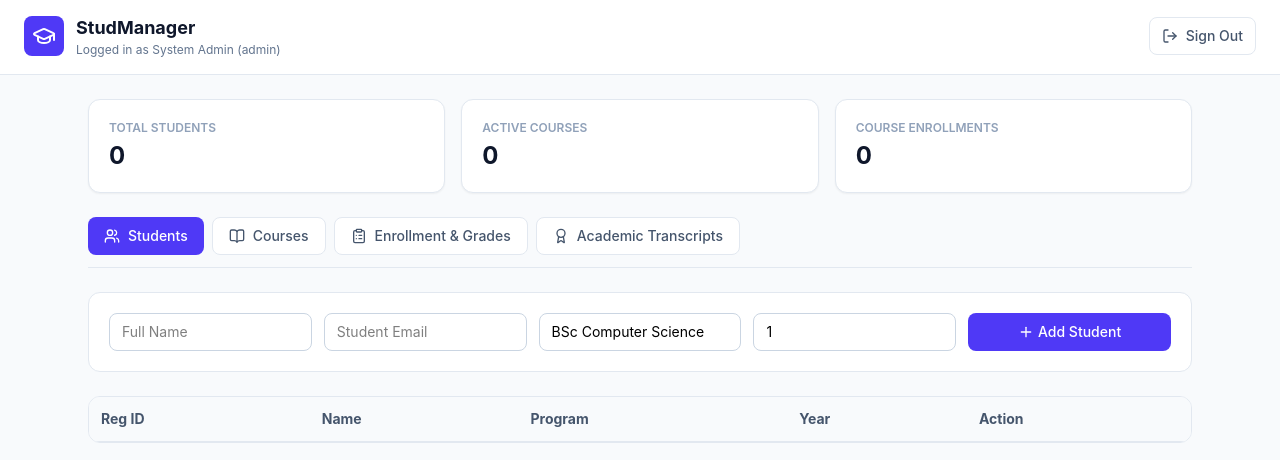
Scenario: Dashboard Page › switches to Academic Transcripts tab when clicked
Step 1. Click the button "Academic Transcripts" → click(638, 236), box x1=536 y1=217 x2=740 y2=255
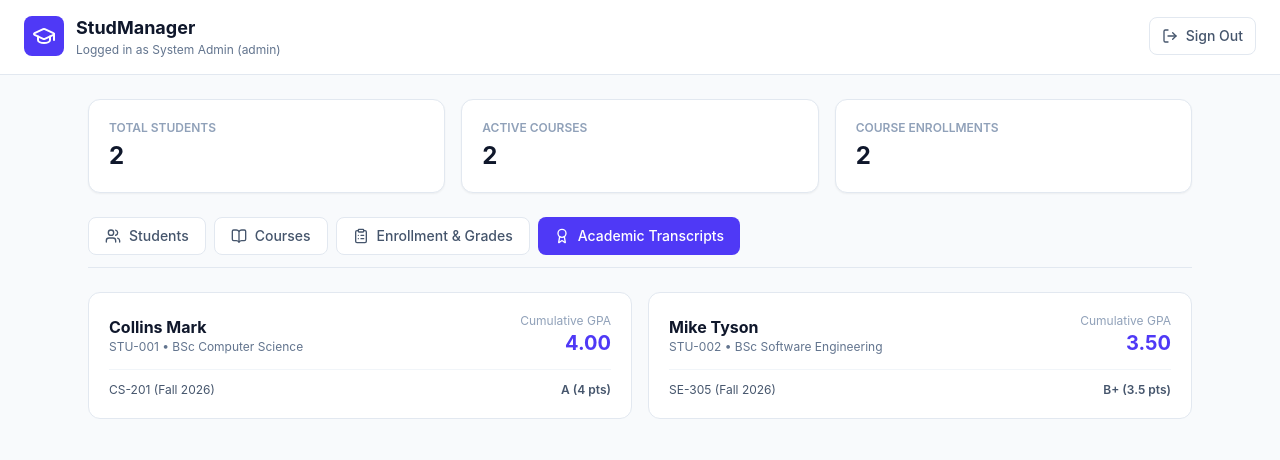
Check: the text "SE-305 (Fall 2026)" is shown, box x1=669 y1=382 x2=776 y2=398
